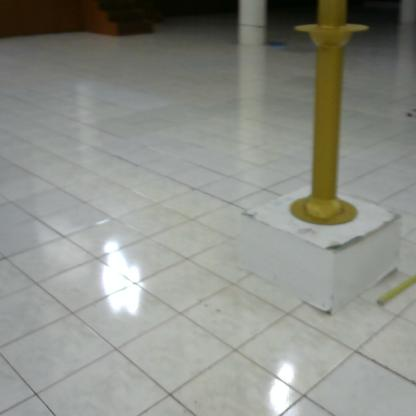pole: (287, 1, 375, 250)
